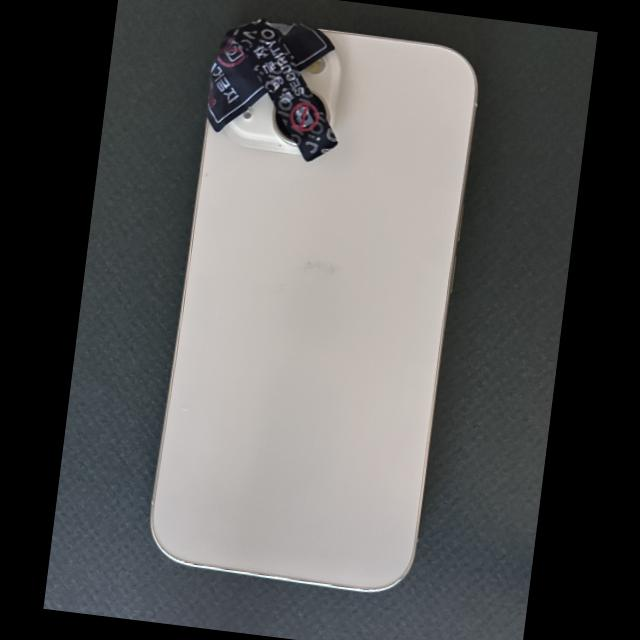lens: (272, 107, 297, 144)
phone: (149, 21, 478, 592)
sticker: (225, 22, 338, 162), (206, 36, 267, 133)
